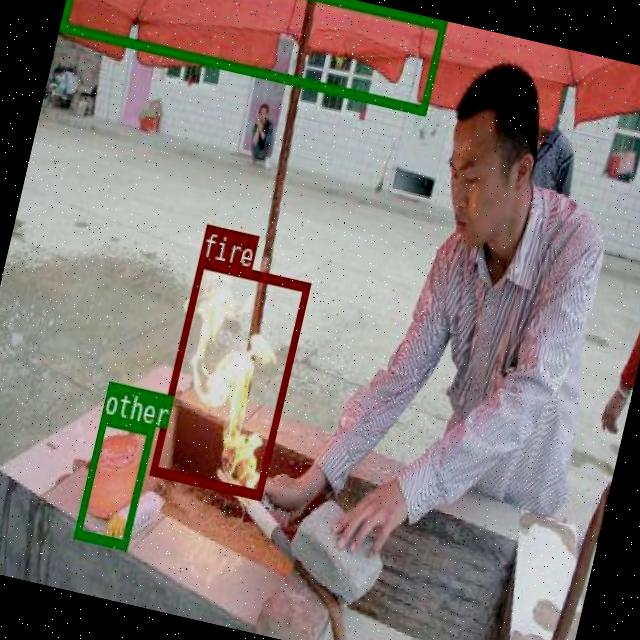fire: (149, 256, 309, 496)
